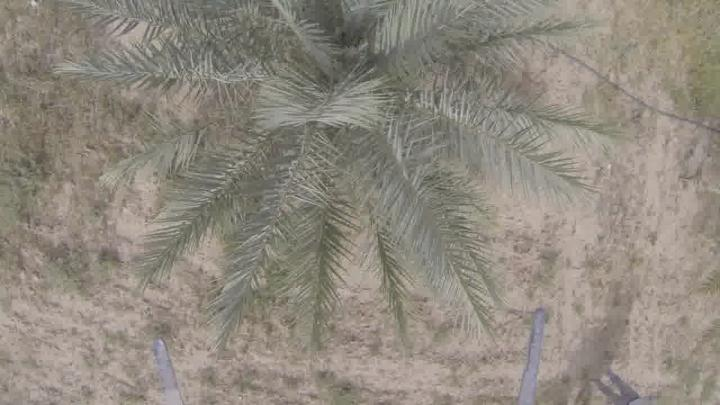Date-Palm-Crown: (163, 1, 498, 254)
